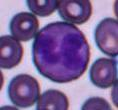E: (32, 21, 90, 82)
